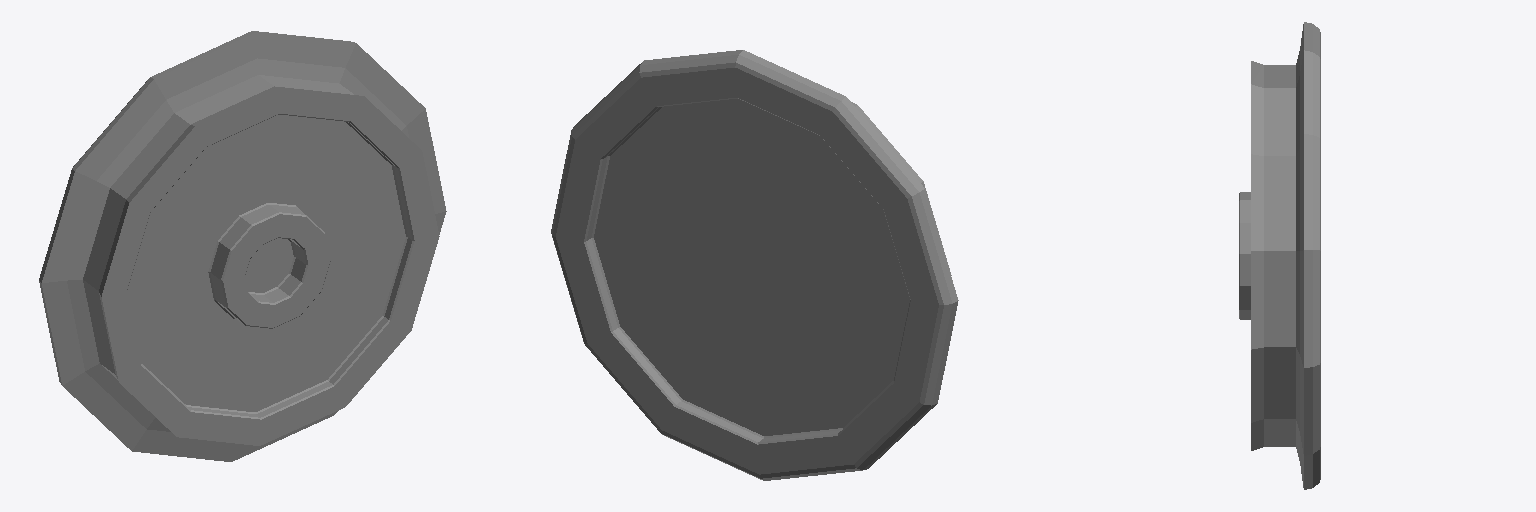
File: right_front_small_wheel.obj
3 renders of one model, left to right at view 1: azimuth 30°, elevation 25°; view 2: azimuth 150°, elevation 25°; view 3: azimuth 270°, elevation 25°, orthographic.
Parts seen in each view (by area): view 1: right_front_small_wheel; view 2: right_front_small_wheel; view 3: right_front_small_wheel.
Part boxes in pixels (x1,y1,x2,y2): right_front_small_wheel: (39, 31, 446, 461); right_front_small_wheel: (551, 50, 958, 480); right_front_small_wheel: (1239, 22, 1320, 489).
Size of the model in its own units: 8.16 by 8.16 by 1.44.